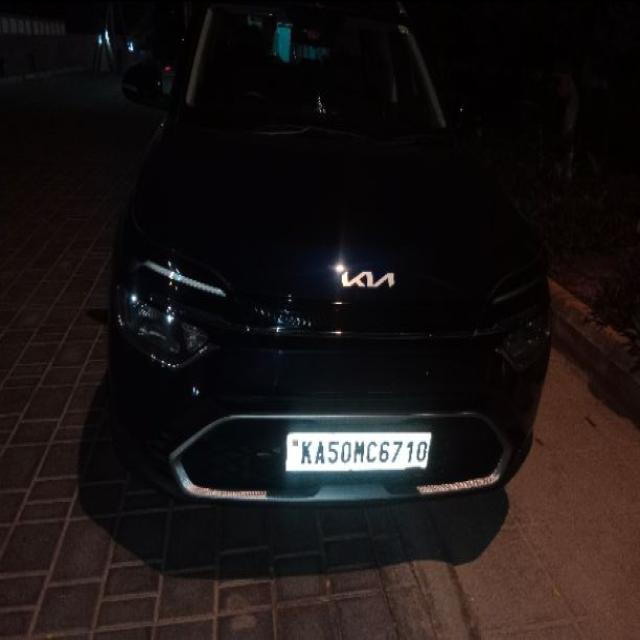license_plate: (283, 428, 432, 473)
